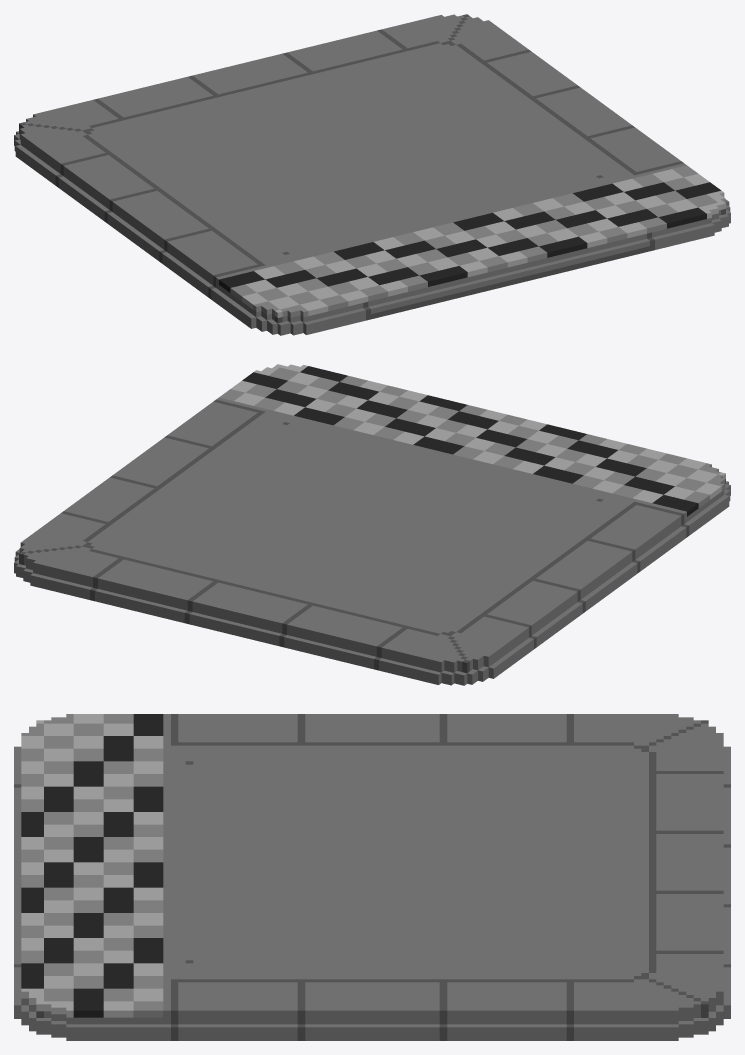
File: baseThree.glb
3 views of the same model, one above another, from view 1: azimuth 30°, elevation 25°; view 2: azimuth 150°, elevation 25°; view 3: azimuth 270°, elevation 25° (orthographic). The views are drawn at different scales.
Parts seen in each view (by area): view 1: ObjObject; view 2: ObjObject; view 3: ObjObject.
Part boxes in pixels (x1,y1,x2,y2): ObjObject: (14,14,730,335); ObjObject: (14,364,730,685); ObjObject: (14,714,730,1040).
Size of the model in its own units: 9.6 by 0.4 by 9.6.
1 material, 1 textured.
